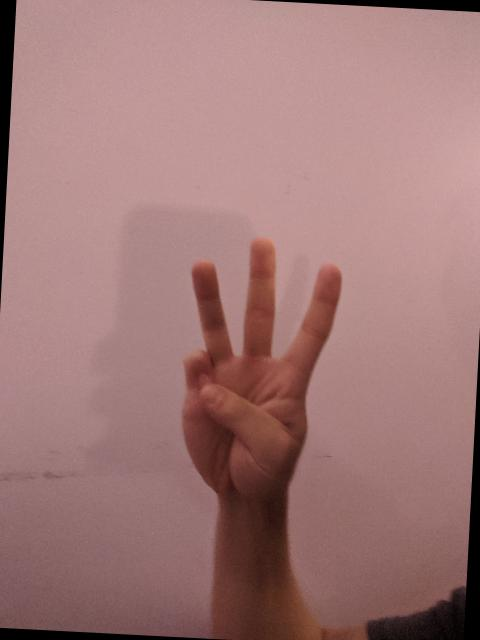W: (169, 230, 348, 508)
